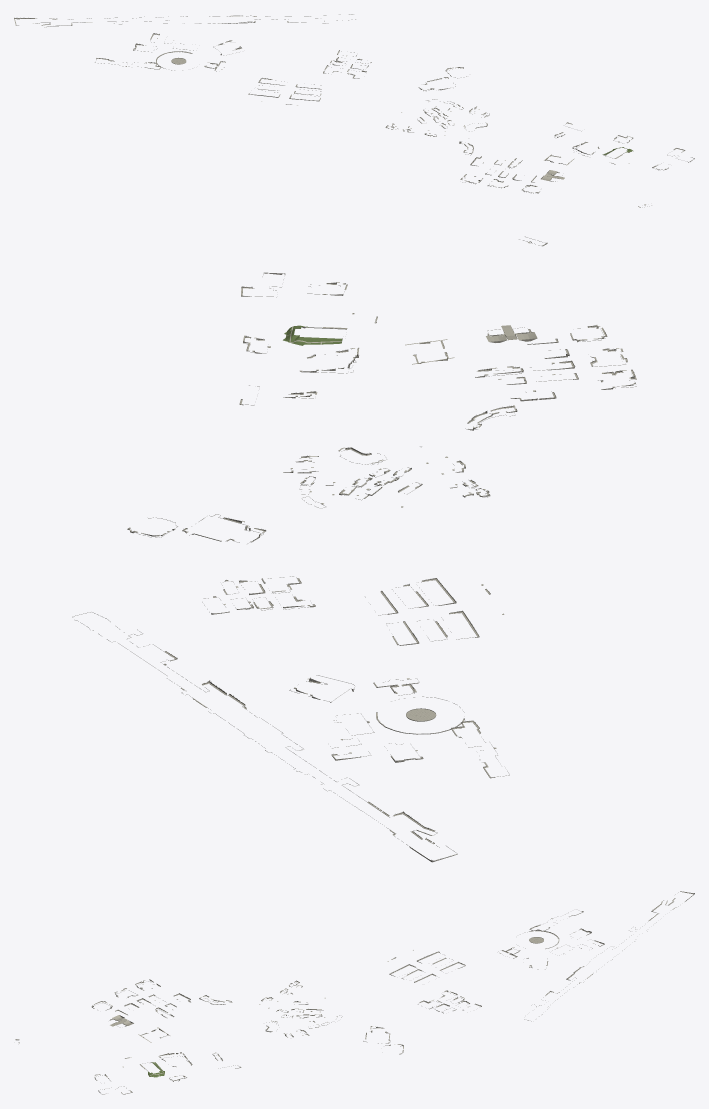
3 views of the same model, one above another, from view 1: azimuth 30°, elevation 25°; view 2: azimuth 150°, elevation 25°; view 3: azimuth 270°, elevation 25° (orthographic). The views are drawn at different scales.
Visible parts, largest first — view 1: postech-stonebank, postech-paving (×2), site-concrete; view 2: postech-paving (×2), postech-stonebank, site-concrete; view 3: postech-paving (×2), postech-stonebank, site-concrete.
Boxes of the visible parts, box(x1,y1,x2,y2) form: postech-stonebank: box(14, 15, 685, 206); postech-paving (×2): box(14, 16, 684, 207); site-concrete: box(17, 14, 694, 207); postech-paving (×2): box(128, 242, 636, 856); postech-stonebank: box(127, 243, 636, 862); site-concrete: box(72, 236, 636, 853); postech-paving (×2): box(15, 891, 693, 1093); postech-stonebank: box(15, 891, 694, 1094); site-concrete: box(16, 891, 691, 1094).
Size of the model in its own units: 1478 by 64.92 by 2253.
Materials: 9 (4 with a texture image).
